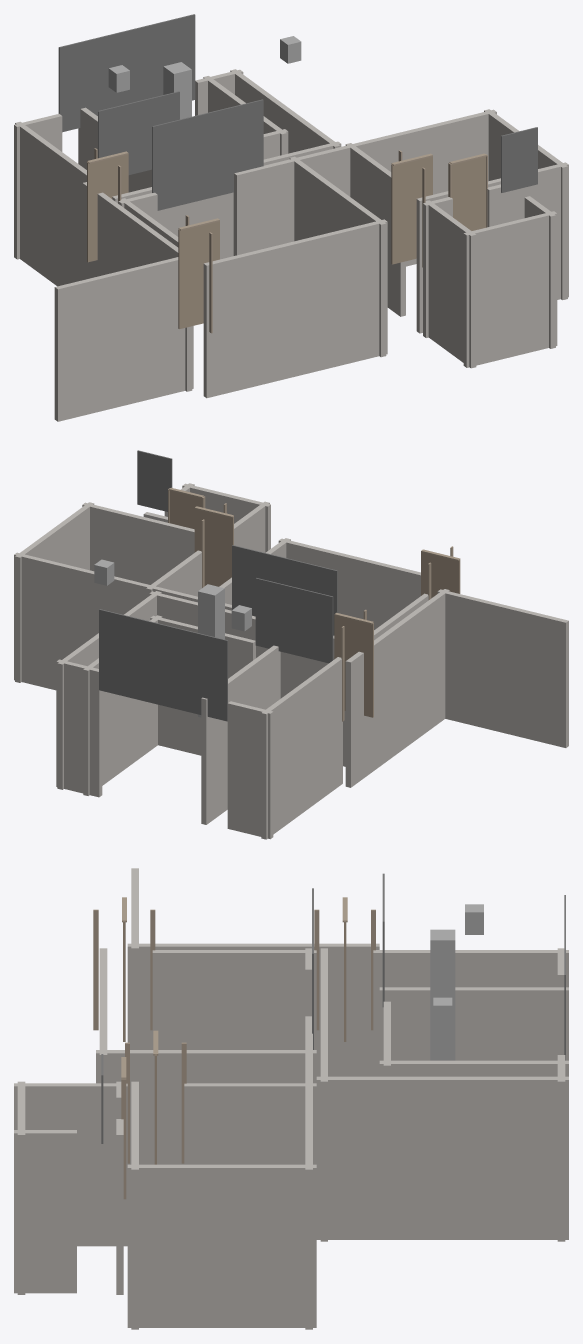
Rendered from 全房模型.glb.
The picture shows the model from 3 angles, top to bottom: view 1: azimuth 30°, elevation 25°; view 2: azimuth 150°, elevation 25°; view 3: azimuth 270°, elevation 25°; orthographic projection. The views are drawn at different scales.
Visible parts, largest first — view 1: world; view 2: world; view 3: world.
Part boxes in pixels (bbox=[...]): world: bbox=[14, 14, 568, 421]; world: bbox=[14, 450, 568, 839]; world: bbox=[14, 868, 568, 1329].
Bounding box in the file's own units: 11300 × 4200 × 8800.
